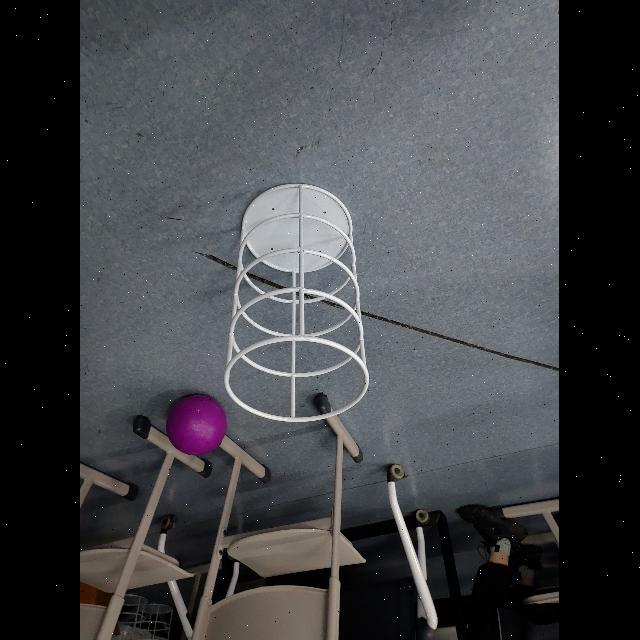S: (220, 181, 372, 425)
